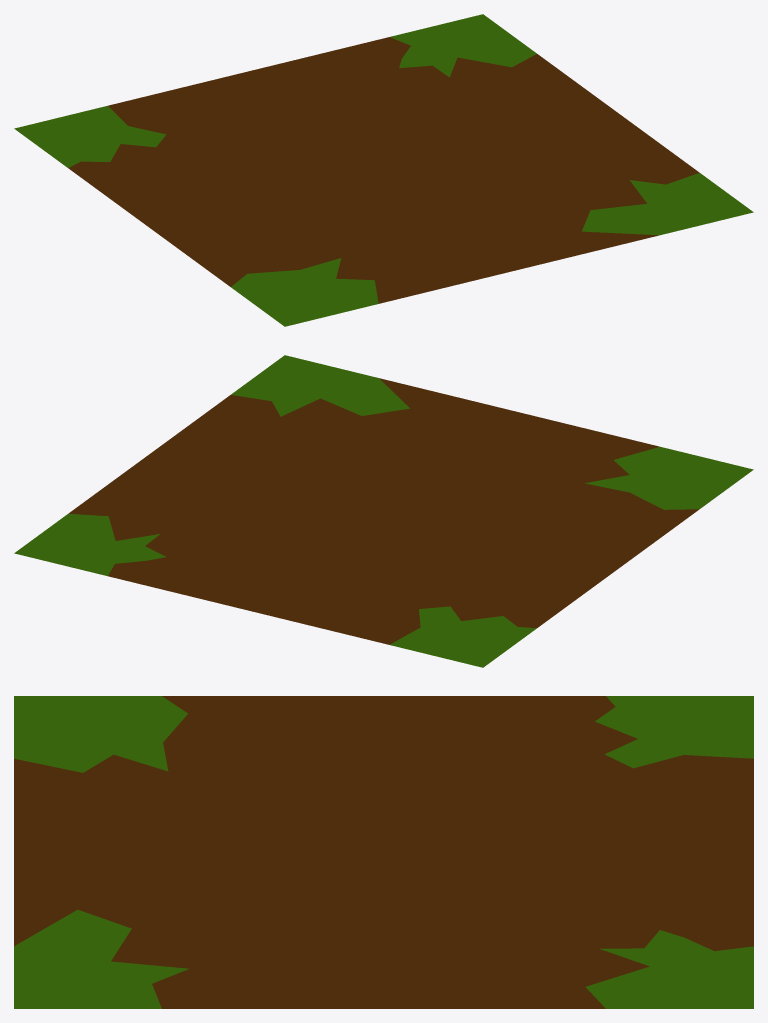
Rendered from X_Road.fbx.
The picture shows the model from 3 angles, top to bottom: view 1: azimuth 30°, elevation 25°; view 2: azimuth 150°, elevation 25°; view 3: azimuth 270°, elevation 25°; orthographic projection. The views are drawn at different scales.
Visible parts, largest first — view 1: Plane.007; view 2: Plane.007; view 3: Plane.007.
Boxes of the visible parts, x1,y1,x2,y2 form: Plane.007: [14, 14, 753, 326]; Plane.007: [14, 355, 753, 667]; Plane.007: [14, 696, 753, 1008].
Bounding box in the file's own units: 400 × 0.000113 × 400.
